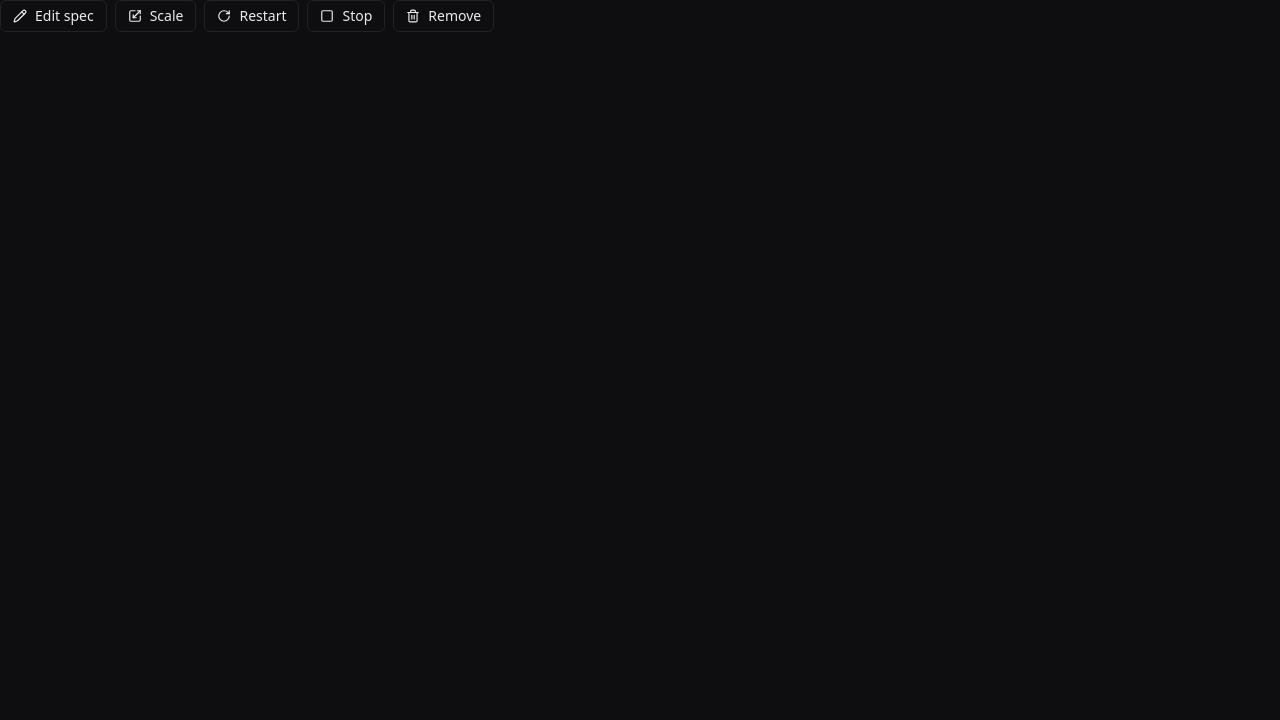
Test: ServiceActions scaling › stops at the autoscale ceiling the daemon would refuse past
This screenshot has width=1280, height=720.
Click the button "Scale": x=156, y=16 [115,0,196,32]
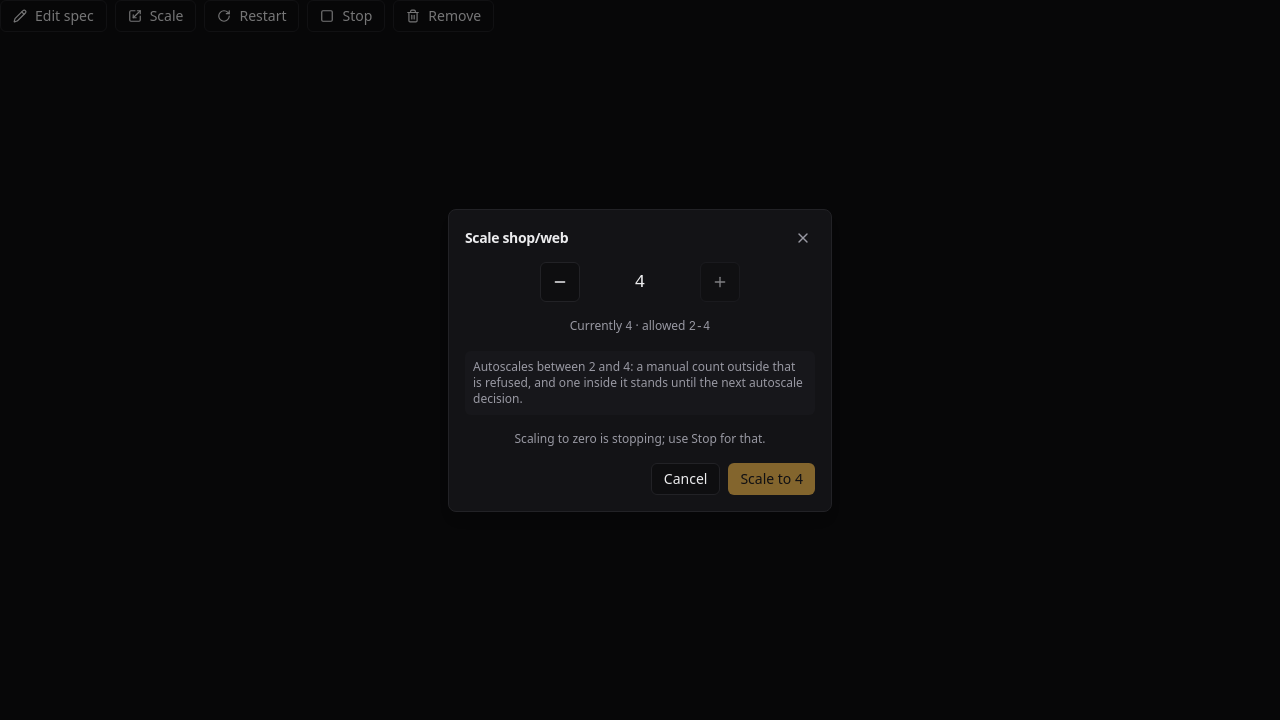
Expected: the button named "Fewer replicas" is enabled, [540,262,580,302]
Expected: the button named "More replicas" is disabled, [700,262,740,302]
Expected: the text "Currently 4 · allowed 2-4" is shown, [570,316,710,334]
